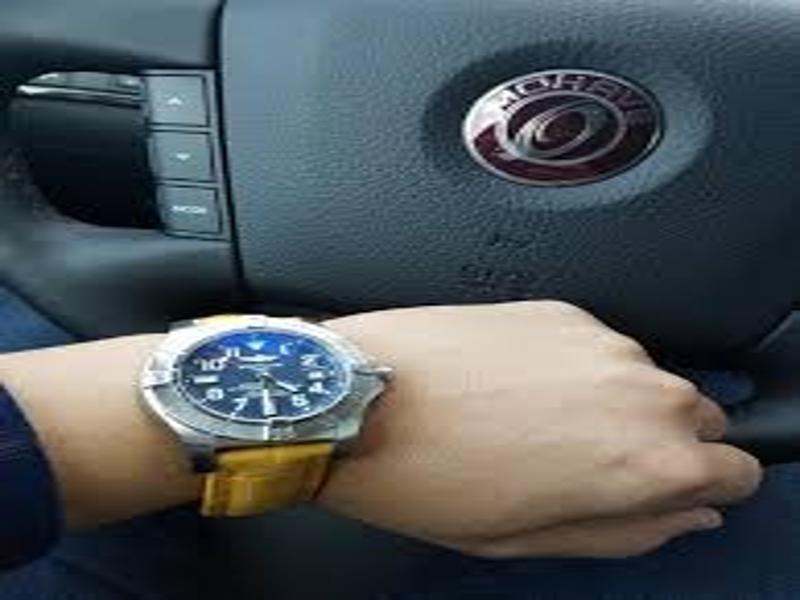watch: (138, 311, 396, 519)
